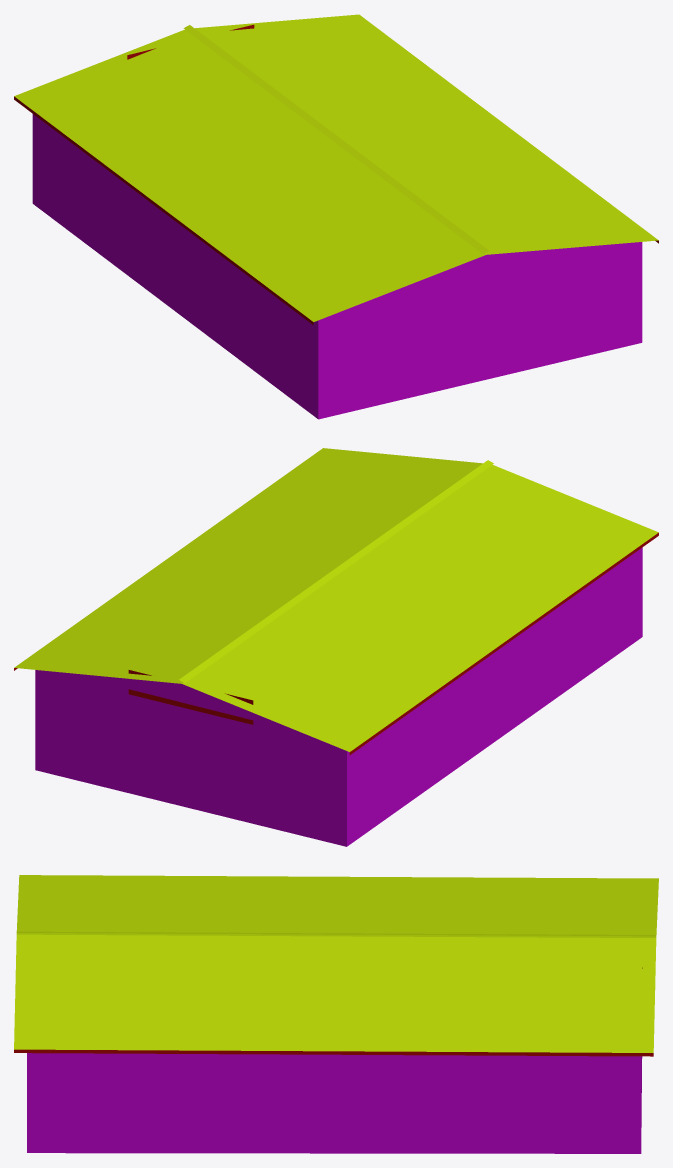
The model's file is bgj_435.glb.
3 views of the same model, one above another, from view 1: azimuth 30°, elevation 25°; view 2: azimuth 150°, elevation 25°; view 3: azimuth 270°, elevation 25° (orthographic). The views are drawn at different scales.
Parts seen in each view (by area): view 1: bgj_435; view 2: bgj_435; view 3: bgj_435.
Part boxes in pixels (box(x1,y1,x2,y2)): bgj_435: box(14, 14, 658, 419); bgj_435: box(14, 448, 658, 846); bgj_435: box(14, 875, 658, 1153).
Bounding box in the file's own units: 13.25 × 4.85 × 20.28.
